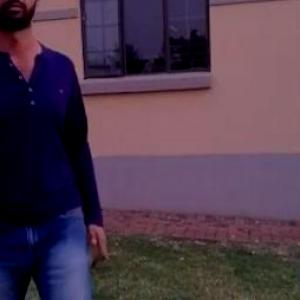follow: (0, 0, 109, 299)
